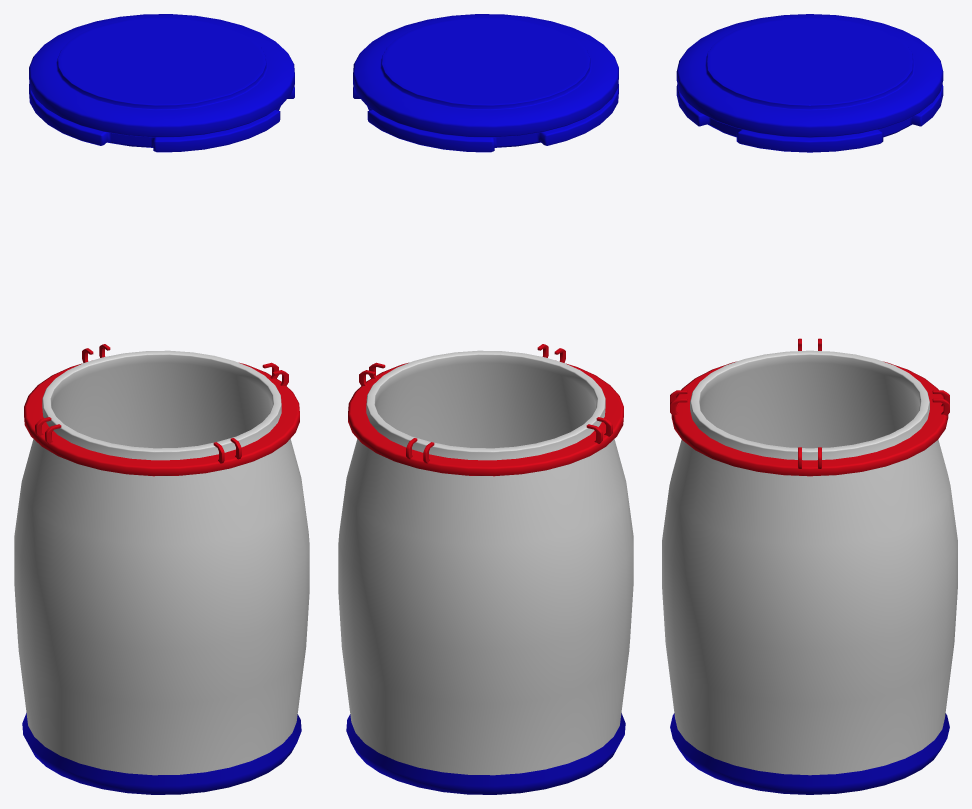
The model's file is Barrel.fbx.
3 views of the same model, side by side, from view 1: azimuth 30°, elevation 25°; view 2: azimuth 150°, elevation 25°; view 3: azimuth 270°, elevation 25° (orthographic).
Visible parts, largest first — view 1: Barrel T; view 2: Barrel T; view 3: Barrel T.
Boxes of the visible parts, <box> form: Barrel T: <box>14,14,309,794</box>; Barrel T: <box>338,14,633,794</box>; Barrel T: <box>662,14,957,794</box>.
Size of the model in its own units: 60 by 152 by 60.
